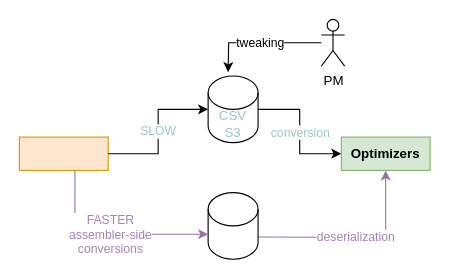
The diagram is 450 pixels wide and 279 high, and some of its shapes have lost their labels. The shapes that lost their labels are listed below. From the top down, each one's centre as x and y in pixels, then its label:
At pixel 63 153: "Assembler".
At pixel 232 225: "bjson Store".
